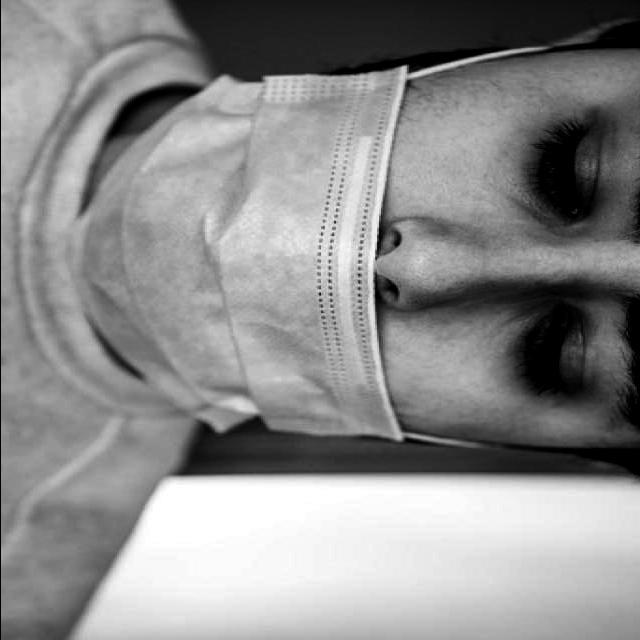mask: (112, 99, 360, 389)
